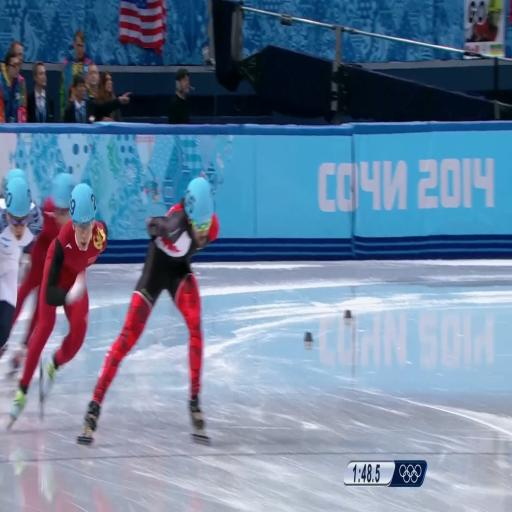Skater: (78, 178, 219, 444), (8, 184, 107, 427), (14, 174, 75, 323), (0, 176, 42, 357)
